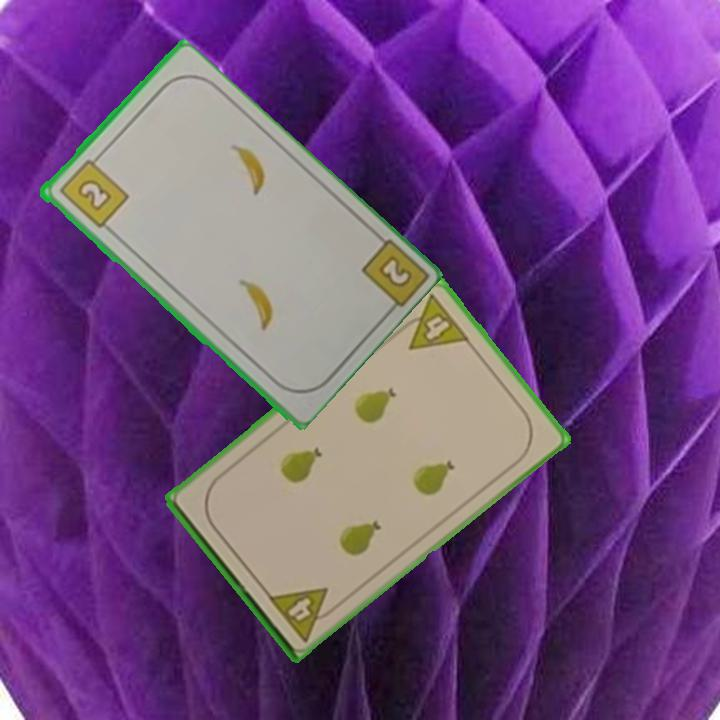2b: (55, 151, 131, 231), (374, 251, 415, 291)
4p: (392, 290, 473, 353), (264, 583, 342, 645)
